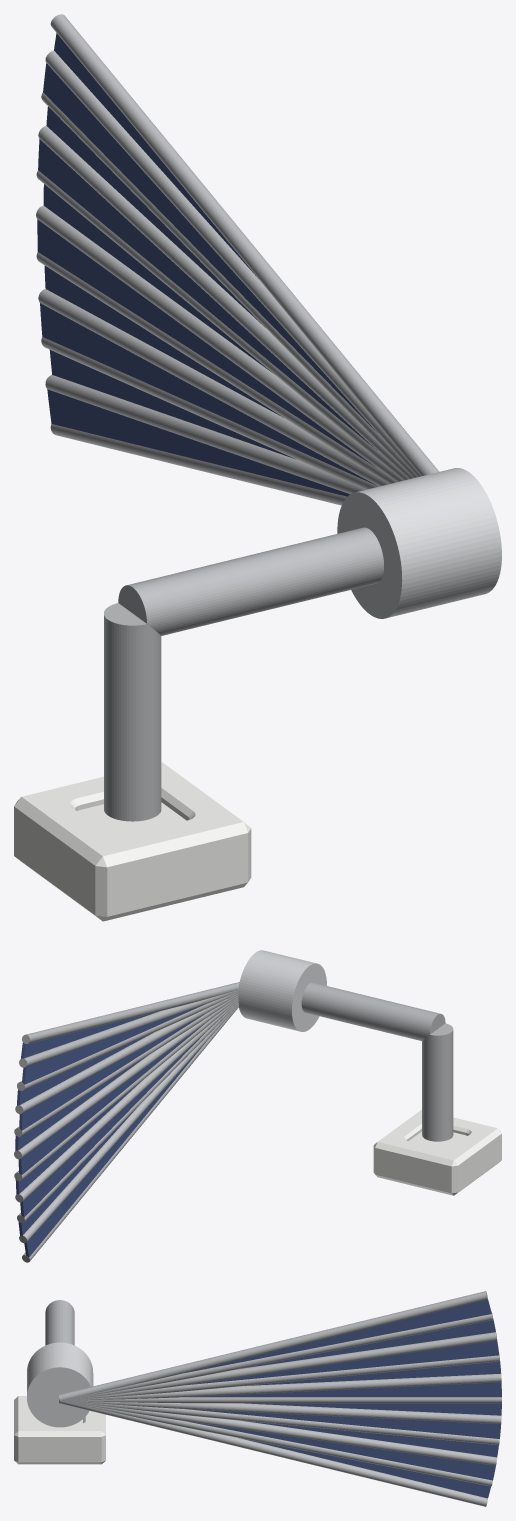
Rendered from ax_power_03_fan_array_s.glb.
3 renders of one model, top to bottom at view 1: azimuth 30°, elevation 25°; view 2: azimuth 150°, elevation 25°; view 3: azimuth 270°, elevation 25°, orthographic. The views are drawn at different scales.
Parts seen in each view (by area): view 1: spars, yoke, mount_block, hub, petal_5, petal_9, petal_7, petal_3, petal_1, petal_2, petal_4, petal_6 (+2 smaller); view 2: spars, yoke, mount_block, hub, petal_1, petal_7, petal_9, petal_3, petal_5, petal_10, petal_8, petal_6 (+2 smaller); view 3: spars, mount_block, hub, petal_6, petal_8, petal_10, petal_2, petal_4, petal_5, petal_9, petal_3, petal_7 (+2 smaller).
Boxes of the visible parts, <box> form: spars: <box>36,14,439,505</box>; yoke: <box>104,527,383,821</box>; mount_block: <box>14,762,251,921</box>; hub: <box>337,468,501,618</box>; petal_5: <box>37,219,376,467</box>; petal_9: <box>43,63,377,432</box>; petal_7: <box>38,139,376,449</box>; petal_3: <box>40,303,378,486</box>; petal_1: <box>47,389,349,496</box>; petal_2: <box>49,350,295,459</box>; petal_4: <box>44,265,283,417</box>; petal_6: <box>43,184,272,372</box>; spars: <box>14,982,239,1262</box>; yoke: <box>301,982,453,1141</box>; mount_block: <box>373,1109,501,1195</box>; hub: <box>238,950,326,1031</box>; petal_1: <box>24,1042,205,1257</box>; petal_7: <box>19,1014,204,1130</box>; petal_9: <box>22,1004,205,1084</box>; petal_3: <box>20,1034,203,1217</box>; petal_5: <box>18,1024,204,1175</box>; petal_10: <box>21,1011,158,1058</box>; petal_8: <box>17,1033,152,1105</box>; petal_6: <box>15,1056,146,1150</box>; spars: <box>59,1291,501,1506</box>; mount_block: <box>14,1396,105,1464</box>; hub: <box>27,1342,93,1427</box>; petal_6: <box>188,1382,501,1397</box>; petal_8: <box>186,1340,498,1385</box>; petal_10: <box>186,1299,491,1372</box>; petal_2: <box>186,1421,495,1480</box>; petal_4: <box>189,1409,500,1438</box>; petal_5: <box>245,1403,501,1415</box>; petal_9: <box>242,1319,495,1368</box>; petal_3: <box>242,1420,498,1457</box>; petal_7: <box>245,1361,501,1385</box>.
Bounding box in the file's own units: 0.687 × 0.7222 × 1.33.
